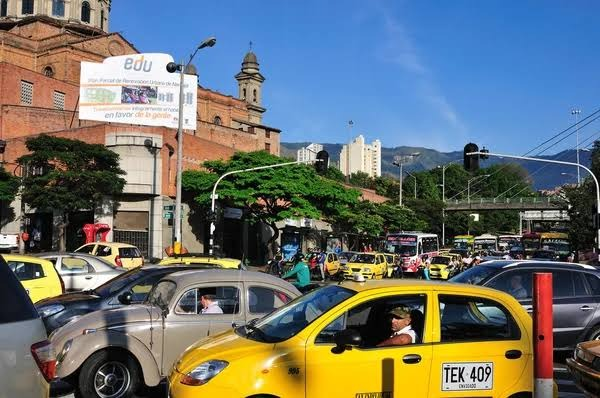car: (67, 269, 576, 396), (23, 267, 306, 391), (57, 265, 346, 359), (6, 264, 127, 395), (452, 262, 600, 367), (1, 257, 88, 382), (4, 254, 124, 303), (1, 258, 97, 319), (462, 258, 598, 291), (553, 301, 600, 392), (41, 252, 138, 295), (554, 300, 600, 356), (67, 248, 147, 278), (69, 241, 147, 267), (451, 258, 522, 286), (335, 253, 393, 282), (418, 250, 464, 279)
